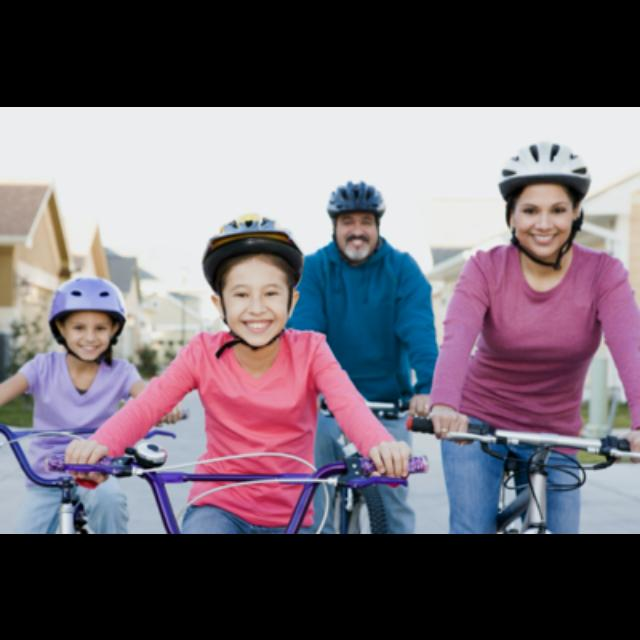With Helmet: (193, 210, 307, 350), (490, 132, 592, 276), (44, 272, 130, 360), (320, 173, 392, 261)
